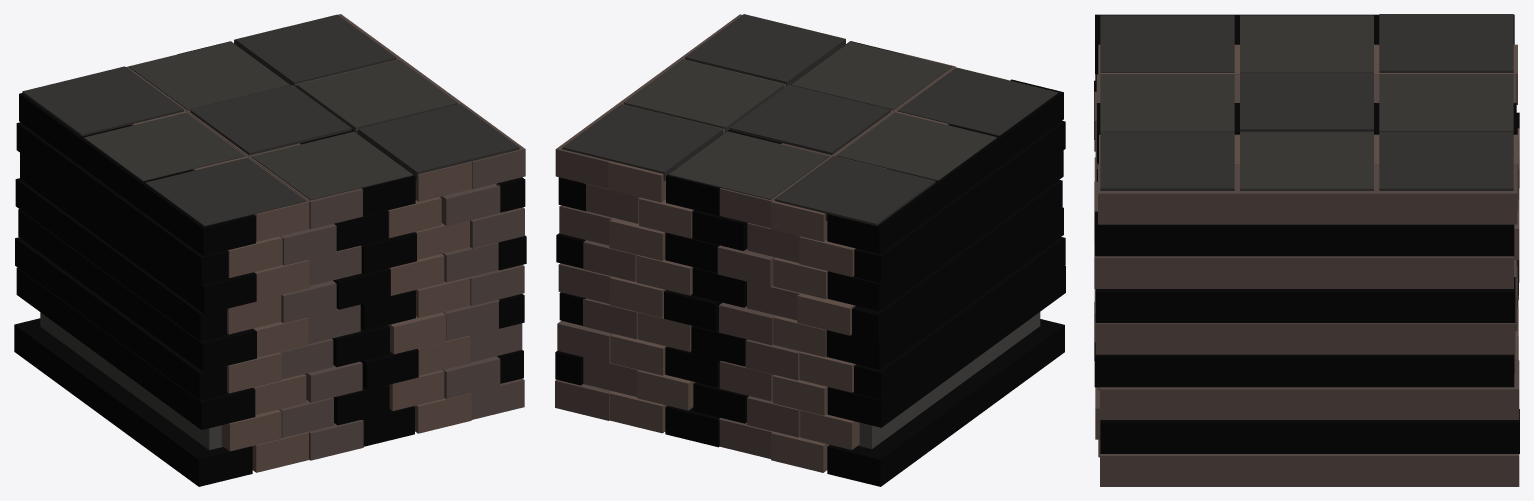
The model's file is wall_brick_b.glb.
The picture shows the model from 3 angles, left to right: view 1: azimuth 30°, elevation 25°; view 2: azimuth 150°, elevation 25°; view 3: azimuth 270°, elevation 25°; orthographic projection. The views are drawn at different scales.
Parts seen in each view (by area): view 1: WallBrick; view 2: WallBrick; view 3: WallBrick.
Boxes of the visible parts, x1,y1,x2,y2 form: WallBrick: (14,14,526,486); WallBrick: (555,14,1065,486); WallBrick: (1094,14,1519,486).
Bounding box in the file's own units: 3.94 × 3.02 × 3.92.
